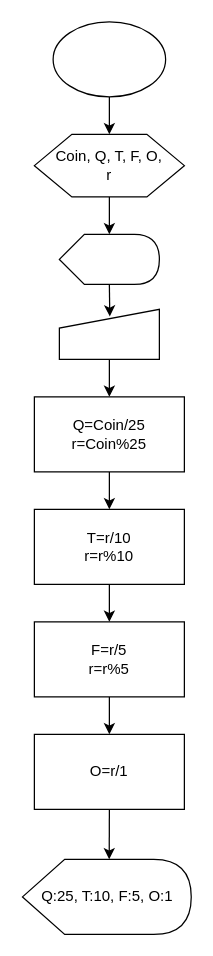
Some shapes in this 213 by 956 pixel diagram are drawn without their labels. Here are the shapes that lost their labels. From the top down, the centre of each, then its label:
At (109,59): "Start".
At (108,258): "Enter".
At (108,333): "Coin".
